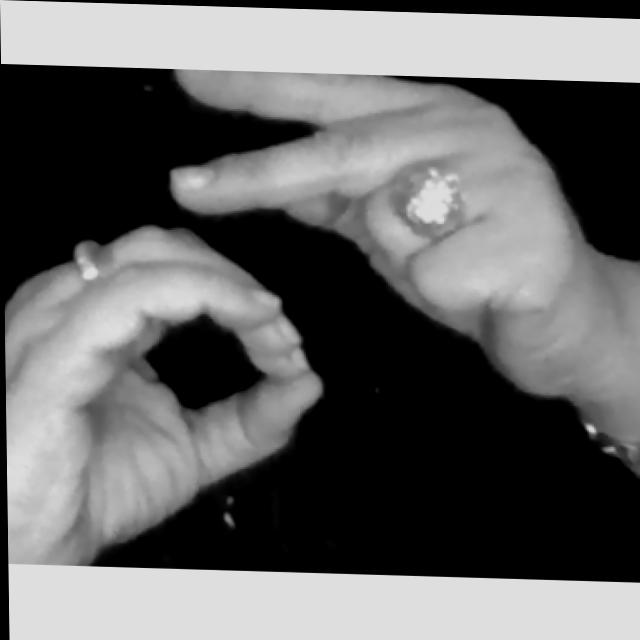O--: (1, 80, 603, 581)
